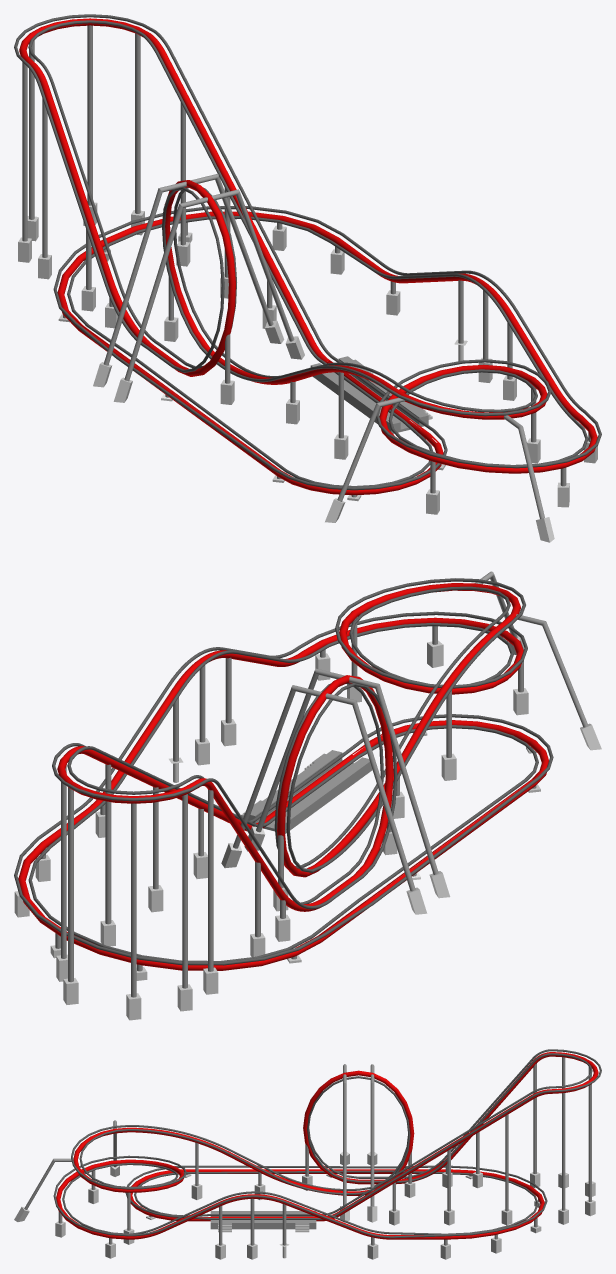
File: coaster.glb
The picture shows the model from 3 angles, top to bottom: view 1: azimuth 30°, elevation 25°; view 2: azimuth 150°, elevation 25°; view 3: azimuth 270°, elevation 25°; orthographic projection. The views are drawn at different scales.
Visible parts, largest first — view 1: Material2 (×4); view 2: Material2 (×4); view 3: Material2 (×4).
Part boxes in pixels (x1,y1,x2,y2): Material2 (×4): [14, 14, 601, 542]; Material2 (×4): [14, 571, 601, 1020]; Material2 (×4): [14, 1049, 601, 1259].
Bounding box in the file's own units: 793 × 510 × 2005.
